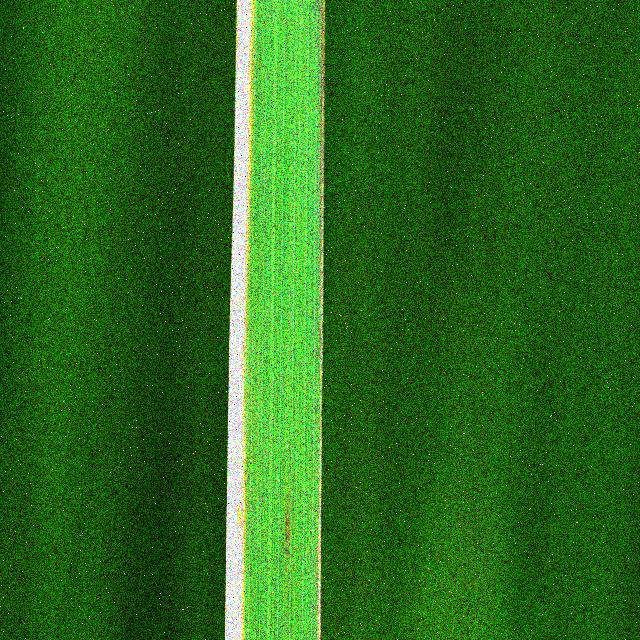BLB: (225, 0, 254, 640)
